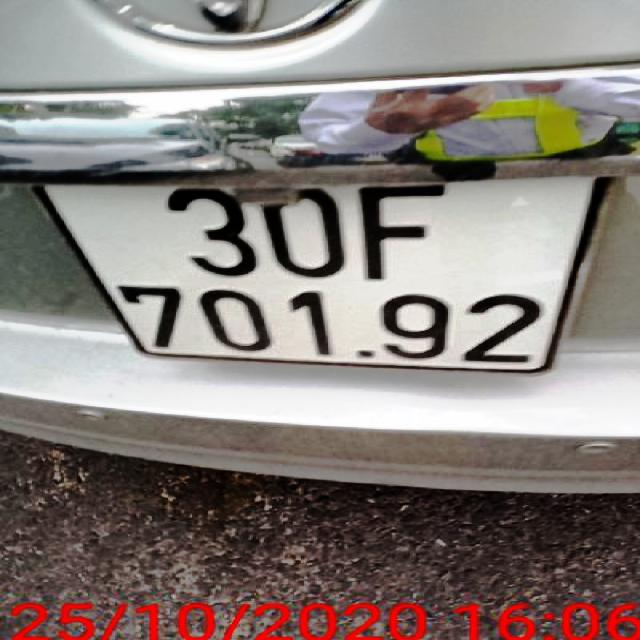license_plate: (33, 174, 615, 371)
